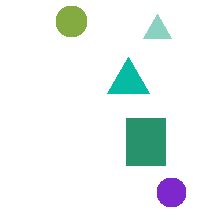circle: (56, 6, 86, 36), (157, 178, 185, 206)
rectangle: (126, 118, 165, 165)
triangle: (107, 57, 149, 93), (143, 14, 171, 38)
